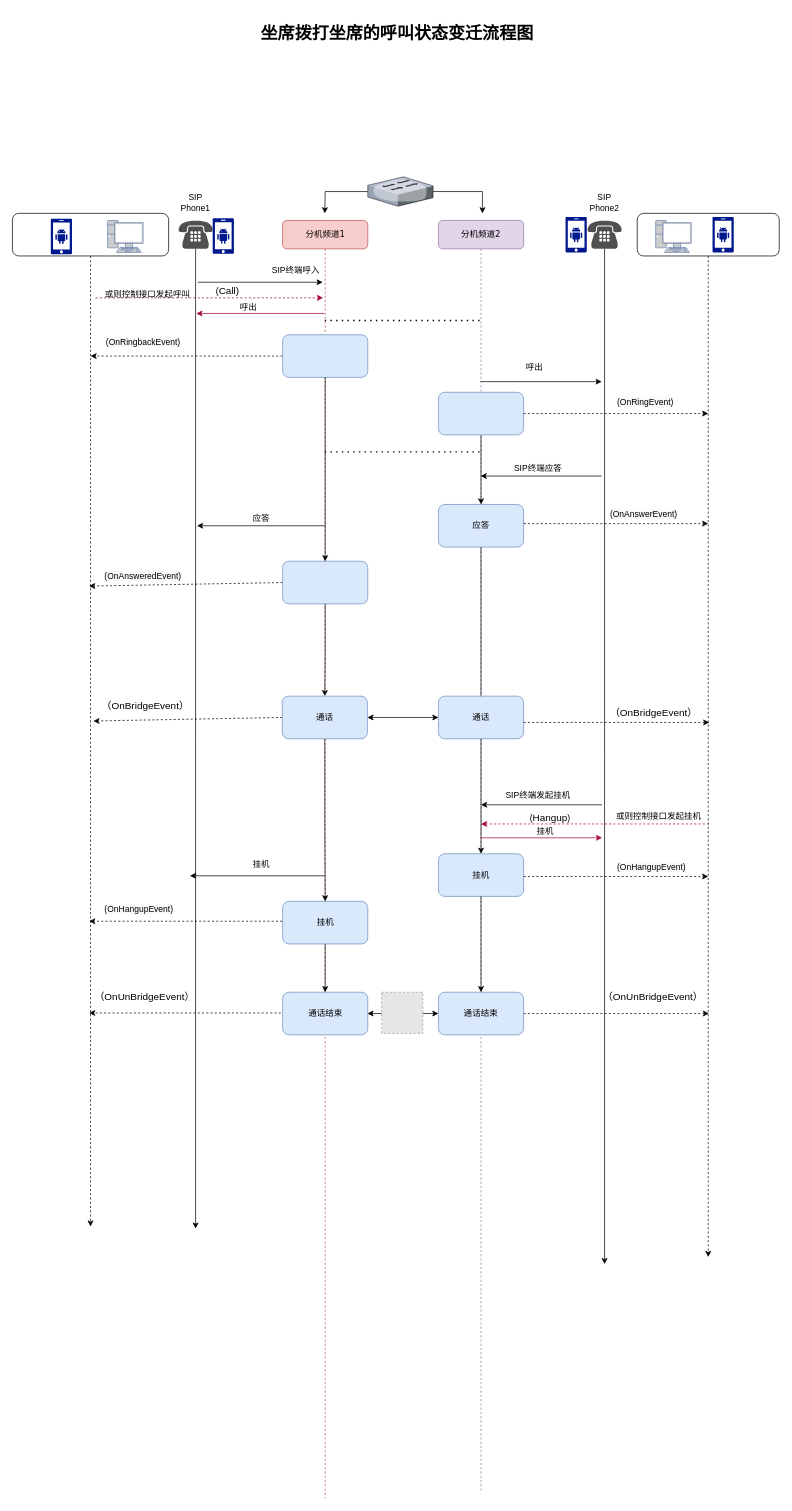
This 792x1511 diagram has some shape labels left out. Grey dashed boxes stand in for pictures. Here are the shapes that lost their labels. From the top down, the centre of each, then its label:
At point 400,191: "SWITCH".
At point 325,355: "回铃".
At point 481,413: "振铃".
At point 325,582: "被应答".
